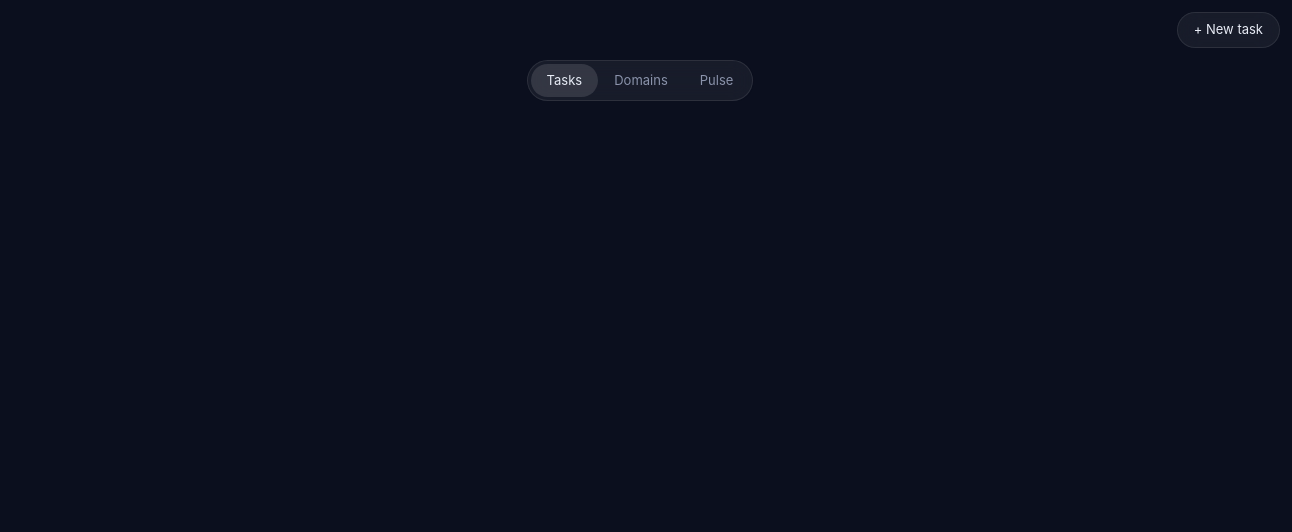
Test: TasksView — Segmented sub-nav (S58) › switches to Domains and renders DomainsMap unchanged (one tile per domain)
Click the tab "Domains" at x=641, y=80, box left=598, top=64, right=684, bottom=97
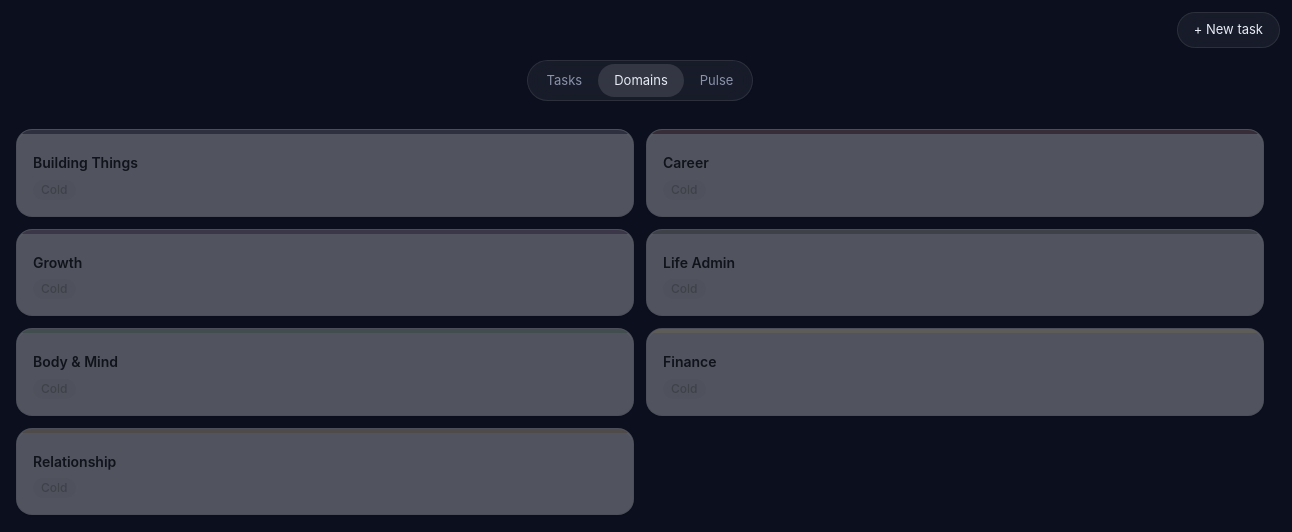
Now the number of elements with test id "domain-tile" is 7
